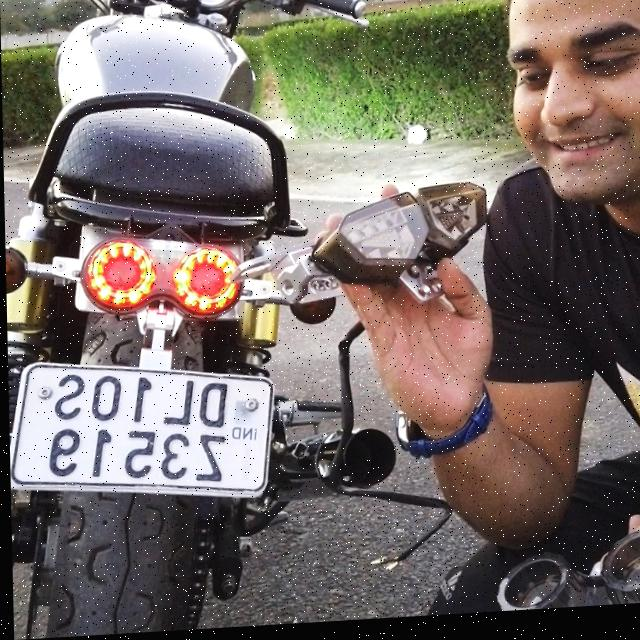plate: (6, 351, 273, 533)
